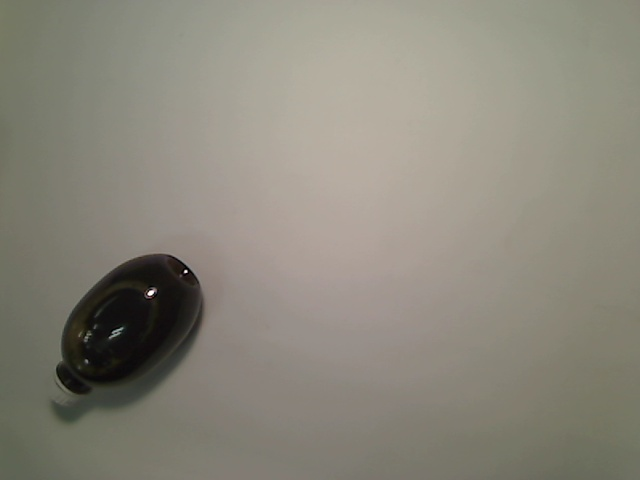plast_bottle: (42, 251, 206, 410)
